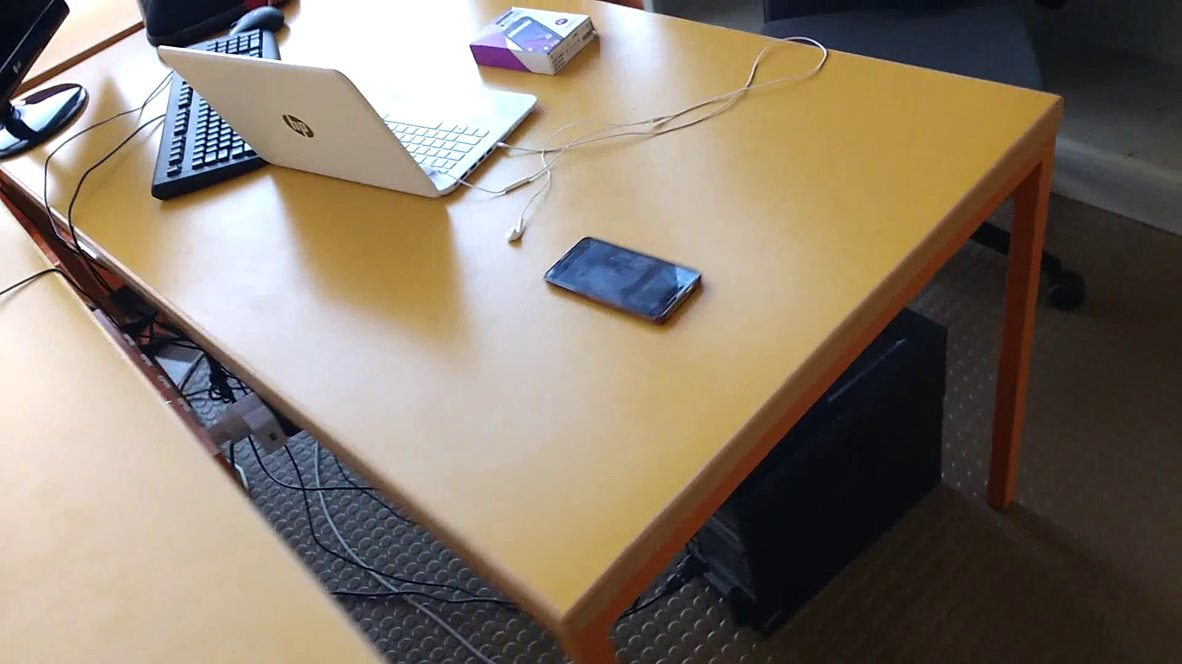laptop: (152, 37, 540, 204)
phone: (541, 232, 716, 341)
